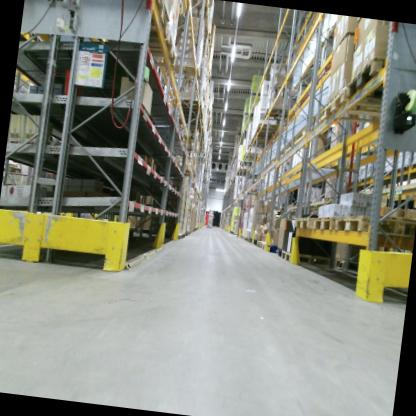pallet: (323, 83, 391, 128), (345, 46, 397, 101), (138, 25, 184, 72), (329, 211, 373, 237), (144, 0, 172, 40), (280, 248, 330, 270), (333, 255, 375, 278), (312, 210, 337, 235), (172, 58, 202, 78), (292, 210, 315, 232), (178, 103, 205, 121), (262, 106, 288, 123), (178, 95, 203, 112), (256, 123, 278, 135), (199, 26, 213, 44), (359, 175, 372, 187), (203, 62, 212, 76), (323, 194, 335, 204), (266, 244, 278, 253), (409, 155, 416, 170), (173, 233, 181, 241), (276, 248, 282, 258), (256, 239, 262, 248), (207, 72, 211, 85), (260, 242, 266, 250), (180, 233, 185, 240), (253, 239, 257, 246)
